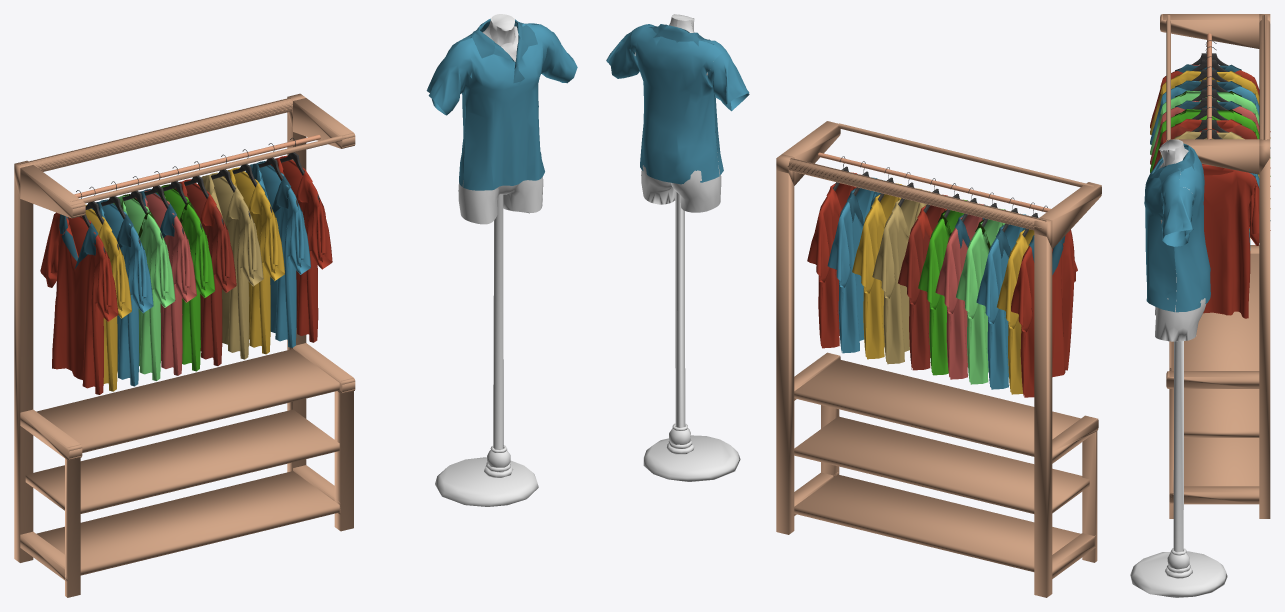
File: Sport_T-shirts.fbx
The picture shows the model from 3 angles, left to right: view 1: azimuth 30°, elevation 25°; view 2: azimuth 150°, elevation 25°; view 3: azimuth 270°, elevation 25°; orthographic projection. The views are drawn at different scales.
Parts seen in each view (by area): view 1: Pattern2D_5081.010, Sport-tshirt_mannequin, AM_102_035_001.010, AM_102_035_001.003, AM_102_035_001.001, AM_102_035_001.007, AM_102_035_001.004, AM_102_035_001, AM_102_035_001.006, AM_102_035_001.008, AM_102_035_001.002, AM_102_035_001.005 (+2 smaller); view 2: Pattern2D_5081.010, Sport-tshirt_mannequin, AM_102_035_001.010, AM_102_035_001.003, AM_102_035_001.001, AM_102_035_001.007, AM_102_035_001.002, AM_102_035_001.004, AM_102_035_001.008, AM_102_035_001, AM_102_035_001.006, AM_102_035_001.005 (+2 smaller); view 3: Pattern2D_5081.010, Sport-tshirt_mannequin, AM_102_035_001, AM_102_035_001.004, AM_102_035_001.005, AM_102_035_001.008, AM_102_035_001.009, AM_102_035_001.007, AM_102_035_001.006, AM_102_035_001.010, Cylinder.018, AM_102_035_001.003 (+6 smaller).
Boxes of the visible parts, box(x1,y1,x2,y2) form: Pattern2D_5081.010: box(14, 93, 355, 597); Sport-tshirt_mannequin: box(426, 14, 577, 506); AM_102_035_001.010: box(40, 212, 118, 394); AM_102_035_001.003: box(198, 172, 263, 359); AM_102_035_001.001: box(245, 161, 310, 347); AM_102_035_001.007: box(113, 194, 175, 380); AM_102_035_001.004: box(175, 179, 236, 365); AM_102_035_001: box(270, 155, 332, 342); AM_102_035_001.006: box(135, 189, 196, 375); AM_102_035_001.008: box(91, 199, 153, 386); AM_102_035_001.002: box(223, 167, 284, 354); AM_102_035_001.005: box(156, 184, 215, 371); Pattern2D_5081.010: box(776, 121, 1101, 597); Sport-tshirt_mannequin: box(606, 14, 749, 481); AM_102_035_001.010: box(1011, 229, 1077, 397); AM_102_035_001.003: box(872, 188, 930, 364); AM_102_035_001.001: box(827, 177, 885, 353); AM_102_035_001.007: box(956, 208, 1005, 384); AM_102_035_001.002: box(852, 183, 904, 359); AM_102_035_001.004: box(898, 194, 947, 370); AM_102_035_001.008: box(976, 213, 1030, 389); AM_102_035_001: box(807, 172, 860, 348); AM_102_035_001.006: box(935, 203, 989, 379); AM_102_035_001.005: box(918, 199, 967, 375); Pattern2D_5081.010: box(1160, 14, 1270, 518); Sport-tshirt_mannequin: box(1130, 139, 1227, 597); AM_102_035_001: box(1202, 164, 1270, 318); AM_102_035_001.004: box(1152, 119, 1270, 186); AM_102_035_001.005: box(1150, 109, 1270, 176); AM_102_035_001.008: box(1150, 80, 1270, 148); AM_102_035_001.009: box(1150, 70, 1270, 138); AM_102_035_001.007: box(1150, 90, 1270, 158); AM_102_035_001.006: box(1150, 100, 1270, 168); AM_102_035_001.010: box(1150, 64, 1270, 131); Cylinder.018: box(1207, 33, 1211, 139); AM_102_035_001.003: box(1159, 131, 1270, 198).
Size of the model in its own units: 411 by 364 by 104.
